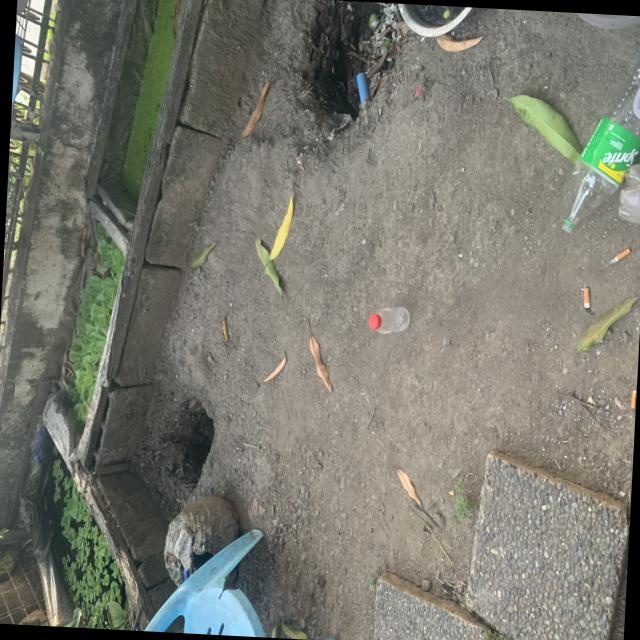Bottle: (368, 306, 410, 334)
